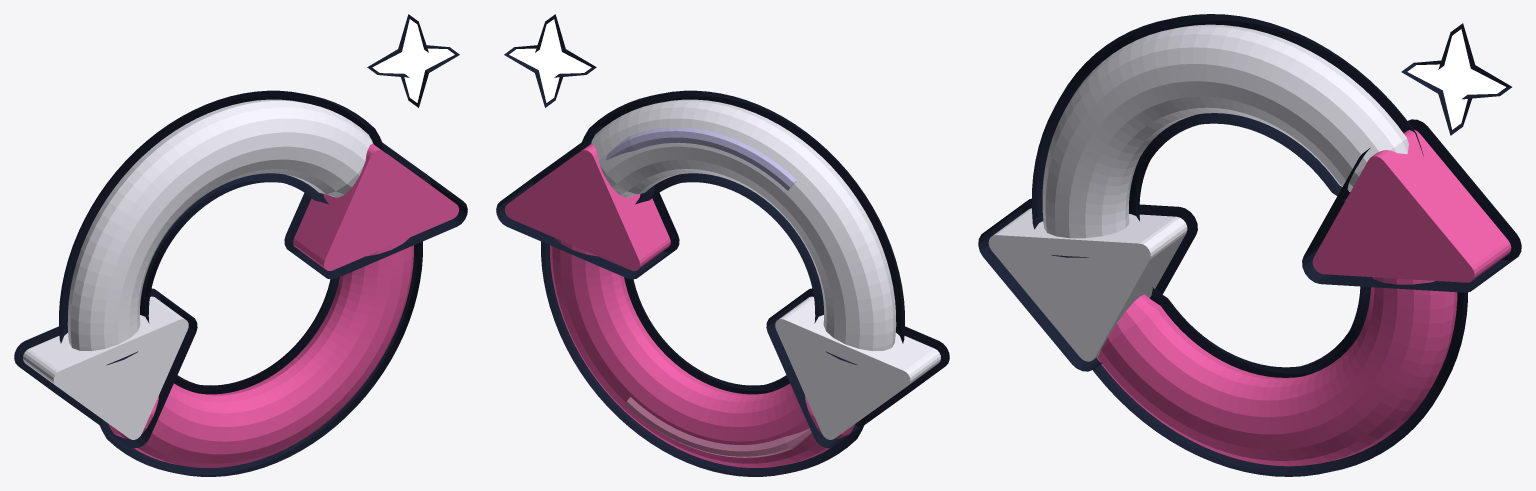
The model's file is Rebirth_3D.glb.
The picture shows the model from 3 angles, left to right: view 1: azimuth 30°, elevation 25°; view 2: azimuth 150°, elevation 25°; view 3: azimuth 330°, elevation 25°; orthographic projection. The views are drawn at different scales.
Parts seen in each view (by area): view 1: Rebirth_3D; view 2: Rebirth_3D; view 3: Rebirth_3D.
Part boxes in pixels (x1,y1,x2,y2): Rebirth_3D: (14, 14, 467, 476); Rebirth_3D: (496, 14, 949, 476); Rebirth_3D: (978, 14, 1521, 476).
Bounding box in the file's own units: 1.91 × 1.77 × 0.29.
